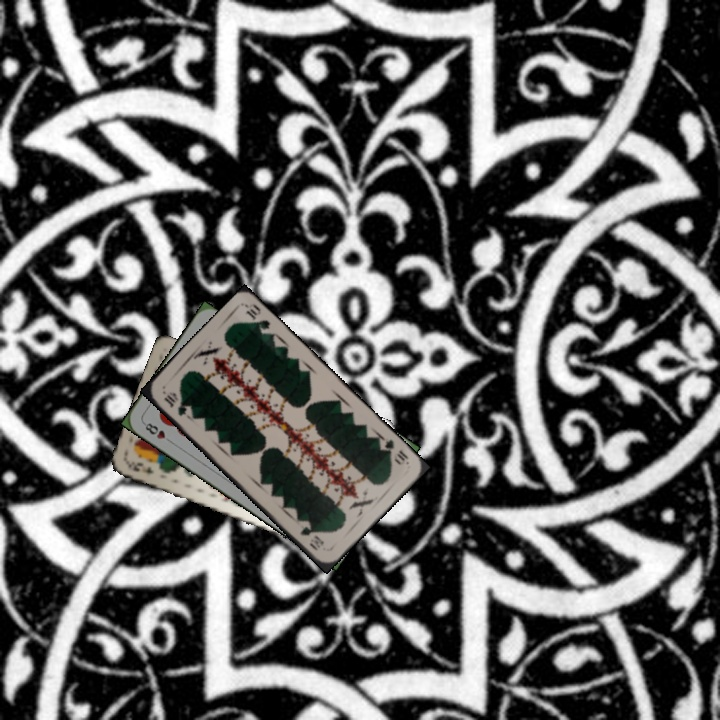EK: (128, 458, 156, 477)
G10: (375, 435, 411, 468), (160, 388, 189, 418)
H8: (139, 418, 175, 446)
